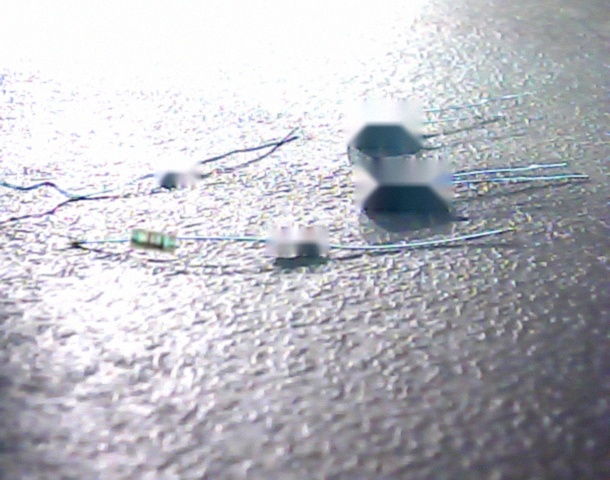resistor: (130, 229, 177, 253)
